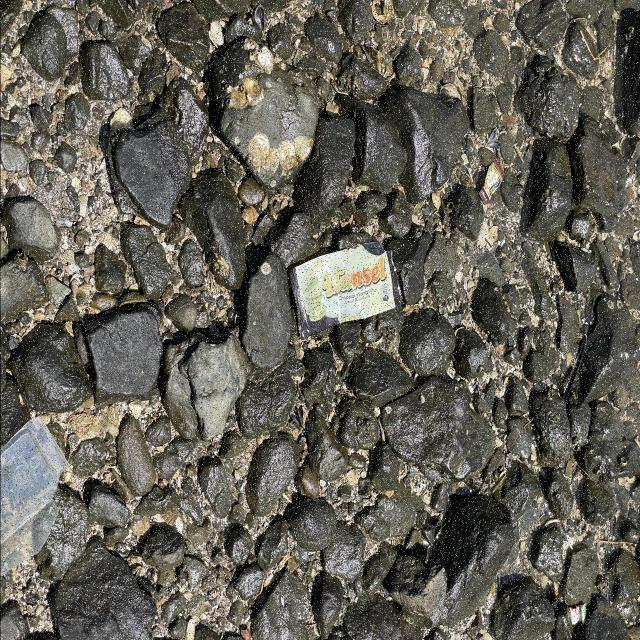plastic_waste: (293, 242, 397, 339)
